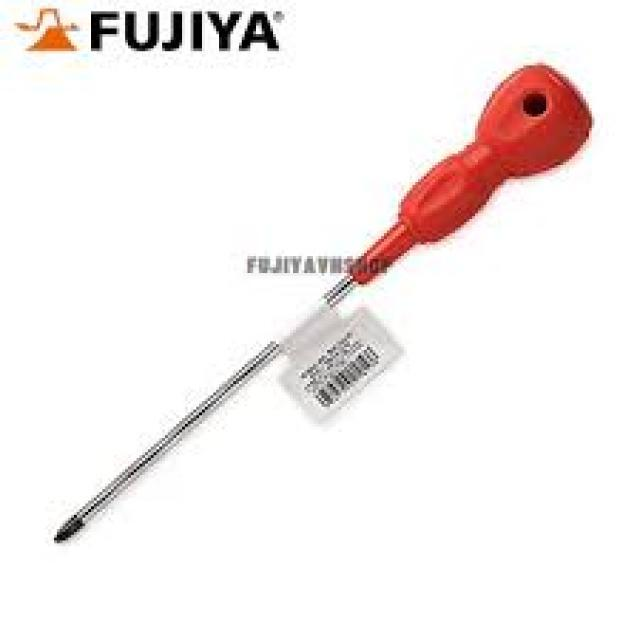screwdriver: (49, 61, 594, 548)
